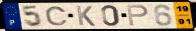0: (101, 5, 120, 27)
5: (21, 5, 43, 28)
6: (153, 4, 173, 27)
C: (44, 6, 70, 27)
K: (75, 5, 97, 27)
P: (126, 4, 150, 27)
